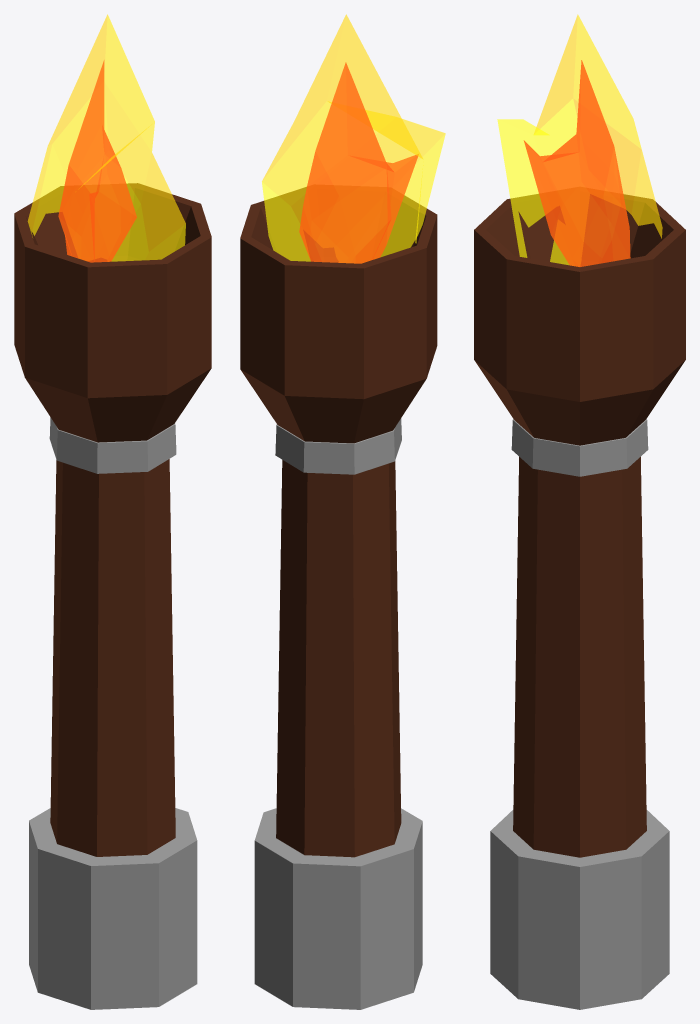
The model's file is torch.glb.
3 views of the same model, side by side, from view 1: azimuth 30°, elevation 25°; view 2: azimuth 150°, elevation 25°; view 3: azimuth 270°, elevation 25° (orthographic).
Parts seen in each view (by area): view 1: Cube; view 2: Cube; view 3: Cube.
Part boxes in pixels (left/top/right/bottom): Cube: left=14, top=14, right=211, bottom=1009; Cube: left=240, top=14, right=445, bottom=1009; Cube: left=474, top=14, right=685, bottom=1009.
Bounding box in the file's own units: 2.36 × 12.31 × 2.47.
